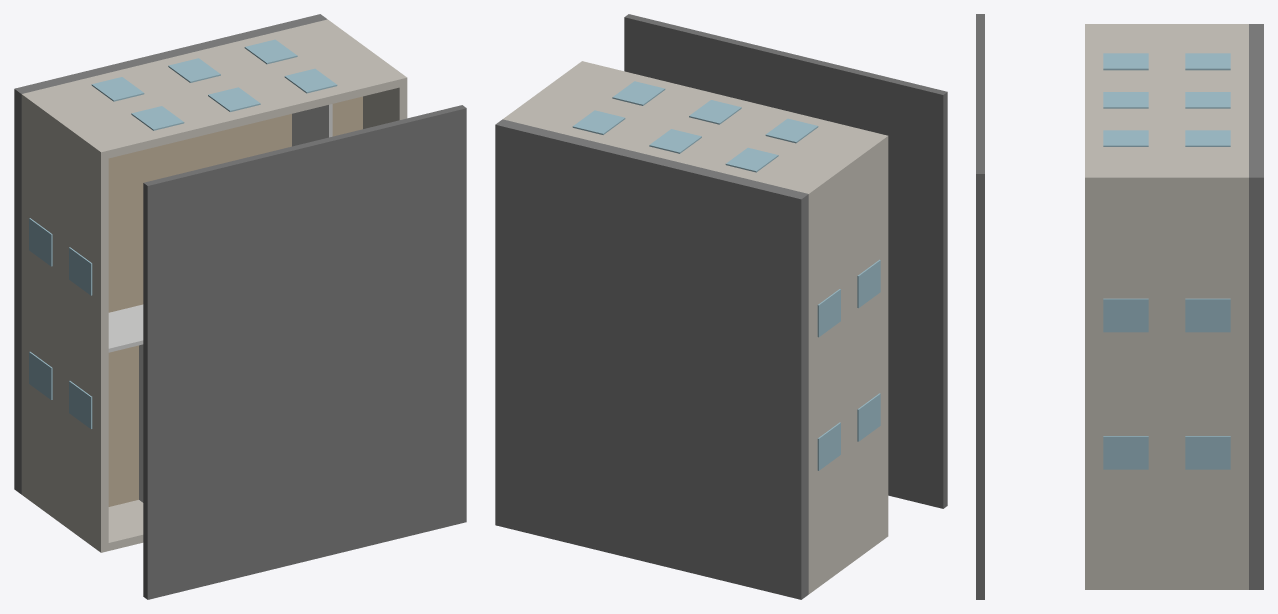
The model's file is house_ml_generated.glb.
The picture shows the model from 3 angles, left to right: view 1: azimuth 30°, elevation 25°; view 2: azimuth 150°, elevation 25°; view 3: azimuth 270°, elevation 25°; orthographic projection. The views are drawn at different scales.
Visible parts, largest first — view 1: world; view 2: world; view 3: world.
Boxes of the visible parts, <box> form: world: <box>14,14,466,599</box>; world: <box>495,14,947,599</box>; world: <box>976,14,1263,599</box>.
Bounding box in the file's own units: 12.5 × 15.5 × 9.5.
